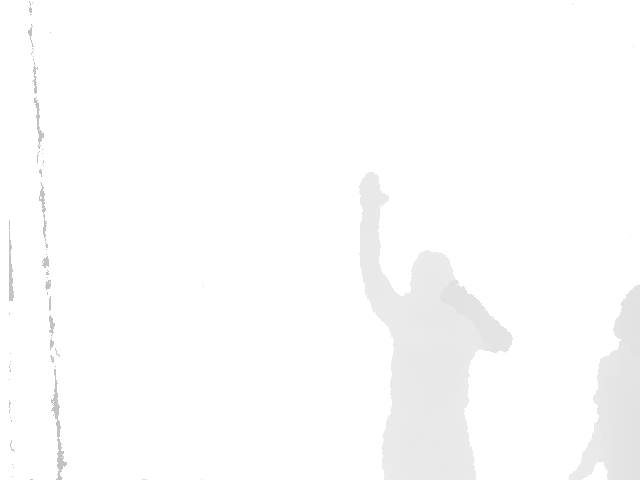hand: (354, 169, 392, 222)
head: (407, 246, 459, 314), (614, 286, 640, 347)
person: (351, 167, 516, 480), (574, 268, 640, 480)
